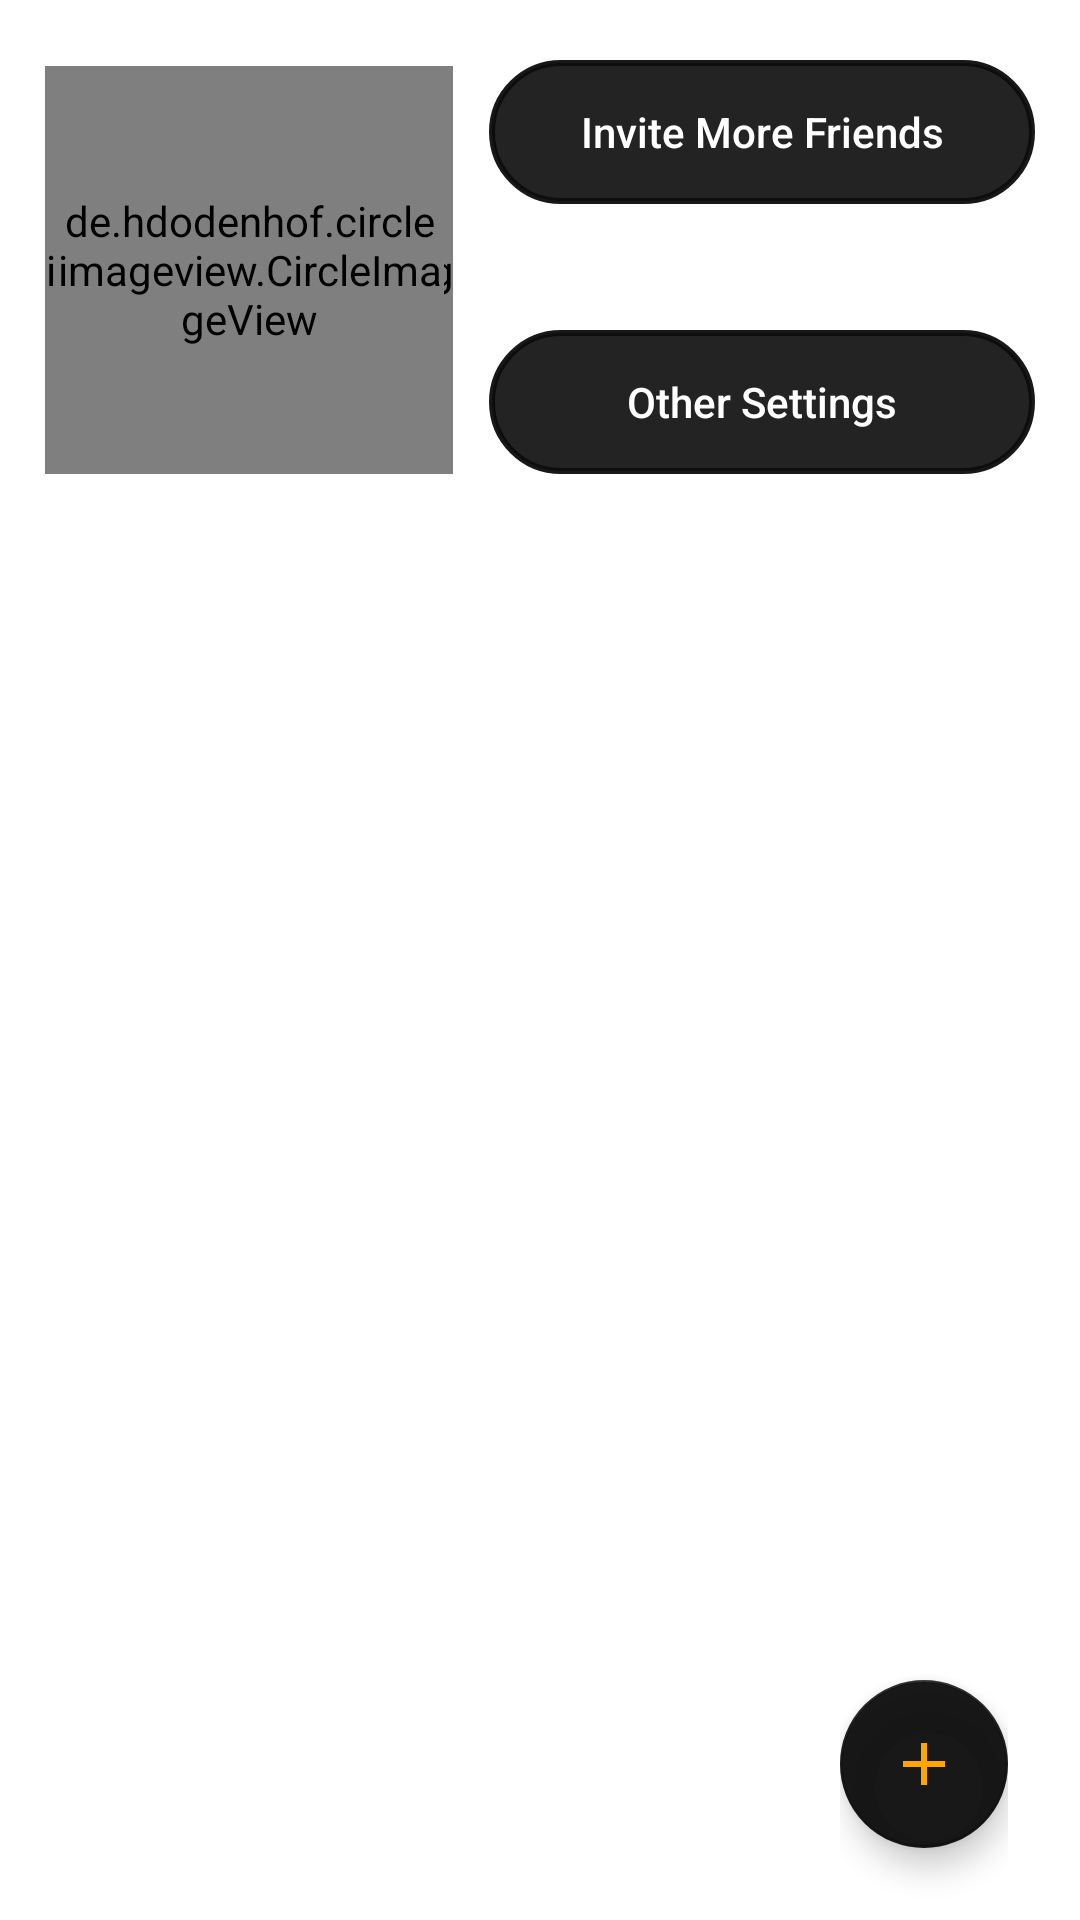

Screen size 1080 x 1920. Icon name, then its box in pixels as (x1, y1, x2, y2):
add: (840, 1680, 1008, 1848)
